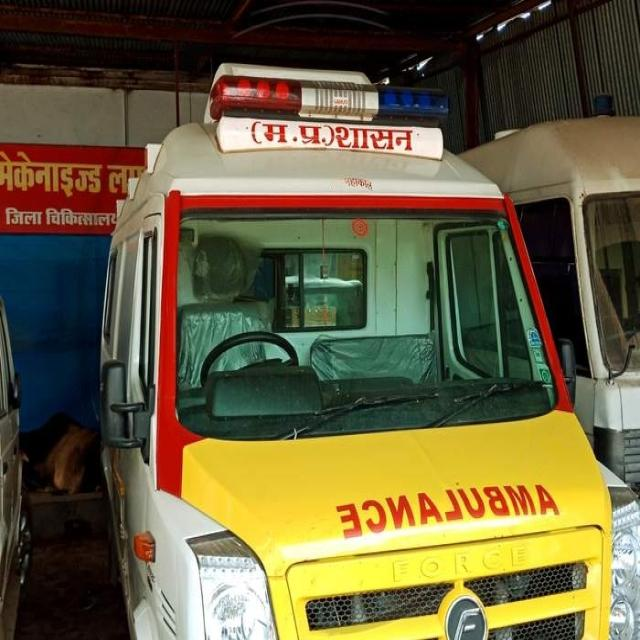emergency: (100, 63, 640, 638)
